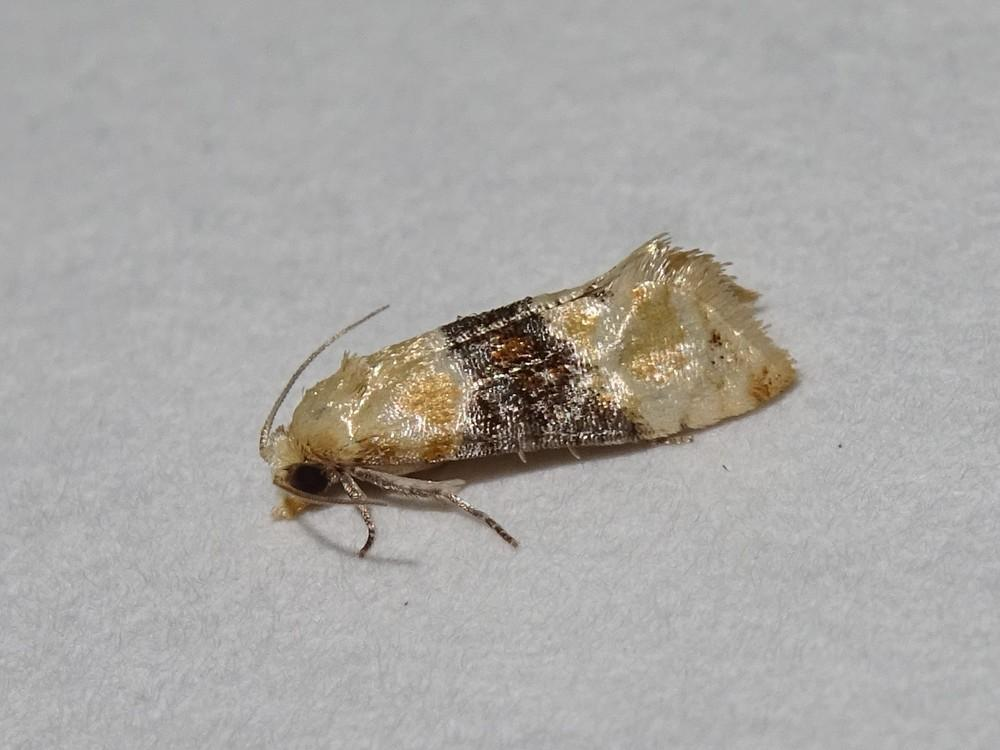Eupoecilia Ambiguella: (255, 229, 799, 560)
